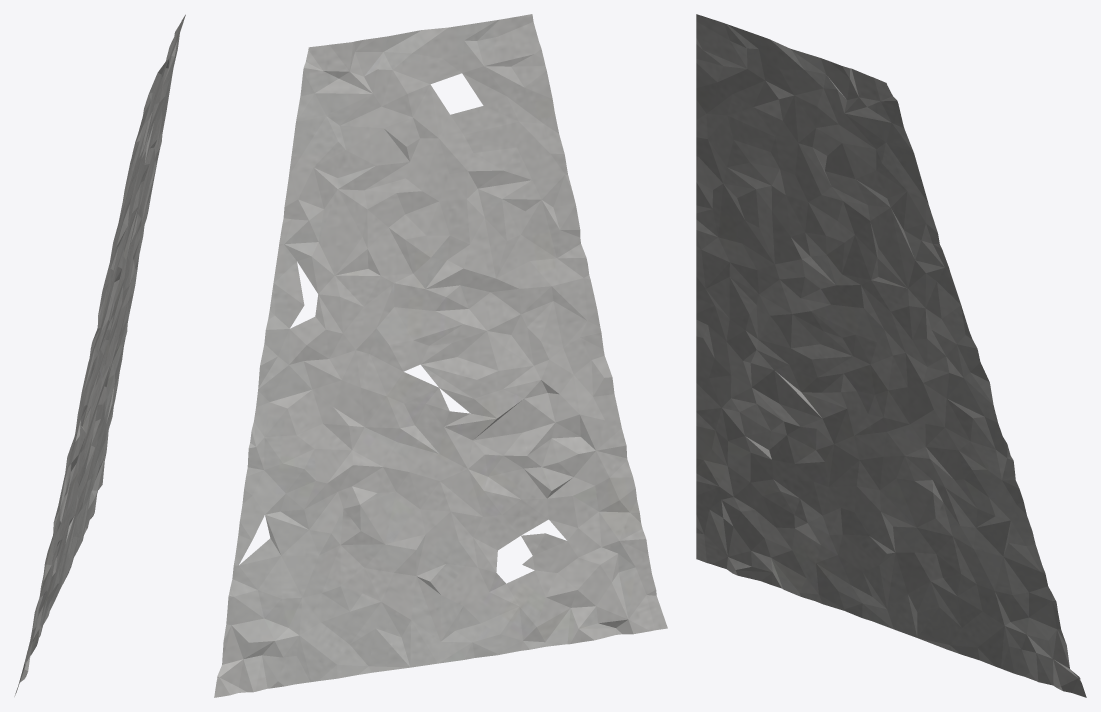
3 views of the same model, side by side, from view 1: azimuth 30°, elevation 25°; view 2: azimuth 150°, elevation 25°; view 3: azimuth 270°, elevation 25° (orthographic). The views are drawn at different scales.
Bounding box in the file's own units: 0.4055 × 0.8374 × 0.482.
2 materials, 2 textured.
